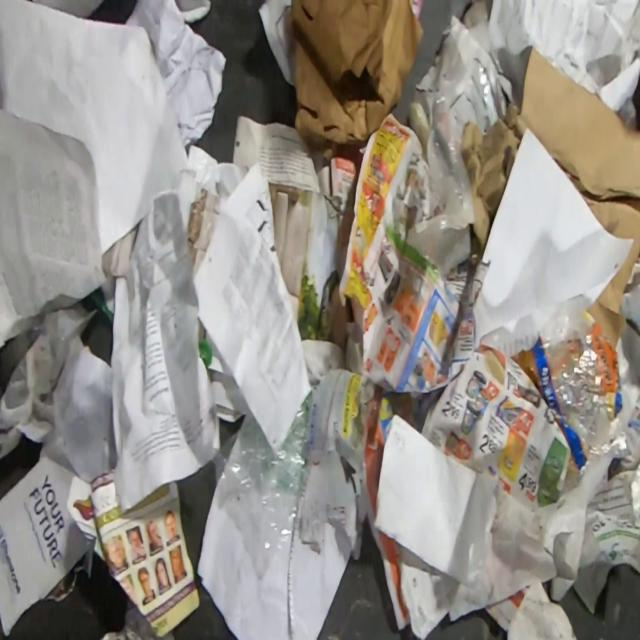cardboard: (285, 0, 424, 161), (506, 46, 640, 200), (581, 192, 640, 345), (460, 119, 522, 251)
soft_plastic: (213, 384, 317, 579), (532, 306, 630, 470), (406, 86, 476, 277)
